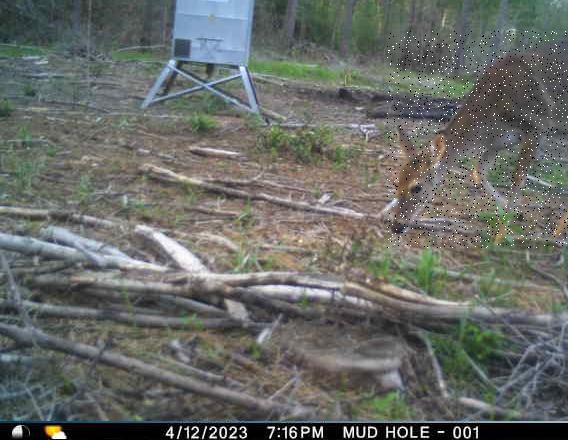Deer: (387, 31, 568, 248)
